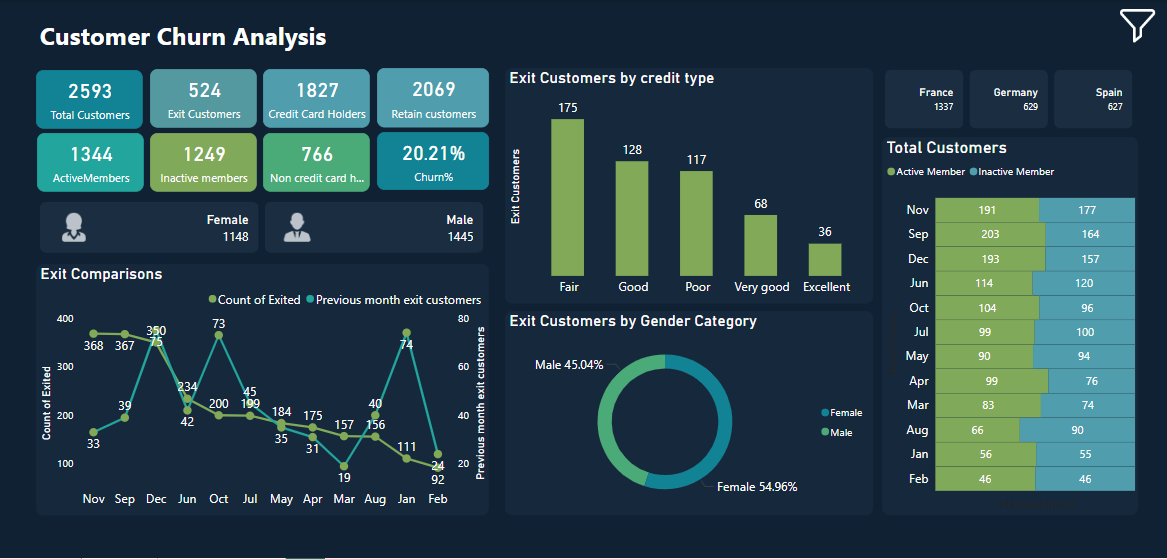

The page's visual inventory and layout, read from the dashboard file:
{"tool":"powerbi","page":{"name":"HOME","canvas":[1530,732],"ordinal":0},"visuals":[{"type":"card","fields":{"Values":["Active customers.Total Customers"]},"box":[47.8,92.1,140,76.8],"z":0},{"type":"card","fields":{"Values":["Active customers.Activw Members"]},"box":[48.1,174.3,140,76.5],"z":1000},{"type":"card","fields":{"Values":["Active customers.Inactive members"]},"box":[196.8,174.4,140,76.5],"z":2000},{"type":"card","fields":{"Values":["Active customers.Credit Card Holders"]},"box":[345.4,90.7,140,76.5],"z":3000},{"type":"card","fields":{"Values":["Active customers.Non credit card holders"]},"box":[345.5,174.4,140,76.5],"z":4000},{"type":"card","fields":{"Values":["Active customers.Exit Customers"]},"box":[196.6,90.7,140,76.5],"z":5000},{"type":"clusteredColumnChart","fields":{"Category":["Bank_Churn.credit type"],"Y":["Active customers.Exit Customers"]},"box":[662,88.8,482.7,308.7],"z":6000},{"type":"donutChart","title":"Exit Customers by Gender Category","fields":{"Y":["Active customers.Exit Customers"],"Category":["Gender.GenderCategory"]},"box":[662,407.8,482.7,267.8],"z":7000},{"type":"lineChart","title":"Exit Comparisons","fields":{"Category":["Date Master.Month Name"],"Y":["CountNonNull(Bank_Churn.Exited)"],"Y2":["Active customers.Previous month exit customers"]},"box":[47.6,345.8,593.7,330],"z":8000},{"type":"card","fields":{"Values":["Active customers.Retain customers"]},"box":[494.2,89.3,147,77.8],"z":9000},{"type":"hundredPercentStackedBarChart","title":"Total Customers","fields":{"Category":["Date Master.year","Date Master.Month Name"],"Y":["Active customers.Total Customers"],"Series":["Active customers.ActiveCategory"]},"box":[1156.5,179.1,336,496.4],"z":10000},{"type":"card","fields":{"Values":["Active customers.Churn%"]},"box":[494.2,172.9,147,76.4],"z":11000},{"type":"advancedSlicerVisual","fields":{"Values":["Geography.GeographyLocation"]},"box":[1155.6,86.5,337.2,87.9],"z":12000},{"type":"image","box":[63.4,273.8,67.7,47.6],"z":13000},{"type":"image","box":[357.4,273.8,66.3,47.6],"z":14000},{"type":"advancedSlicerVisual","fields":{"Values":["Gender.GenderCategory"]},"box":[47.6,259.4,593.7,77.8],"z":15000},{"type":"textbox","box":[47.6,20.2,407.8,66.3],"z":16000},{"type":"image","box":[1454.9,0,75.1,64.8],"z":18000}]}

Visuals, with their boxes in screenshot pixels (x1, y1, x2, y2), scaled from the page's 1530x732 canvas onto the 1167x559 screenshot:
card - Active customers.Total Customers: box(36, 70, 143, 129)
card - Active customers.Activw Members: box(37, 133, 143, 192)
card - Active customers.Inactive members: box(150, 133, 257, 192)
card - Active customers.Credit Card Holders: box(263, 69, 370, 128)
card - Active customers.Non credit card holders: box(264, 133, 370, 192)
card - Active customers.Exit Customers: box(150, 69, 257, 128)
clusteredColumnChart - Bank_Churn.credit type x Active customers.Exit Customers: box(505, 68, 873, 304)
"Exit Customers by Gender Category" donutChart: box(505, 311, 873, 516)
"Exit Comparisons" lineChart: box(36, 264, 489, 516)
card - Active customers.Retain customers: box(377, 68, 489, 128)
"Total Customers" hundredPercentStackedBarChart: box(882, 137, 1138, 516)
card - Active customers.Churn%: box(377, 132, 489, 190)
advancedSlicerVisual - Geography.GeographyLocation: box(881, 66, 1139, 133)
image: box(48, 209, 100, 245)
image: box(273, 209, 323, 245)
advancedSlicerVisual - Gender.GenderCategory: box(36, 198, 489, 258)
textbox: box(36, 15, 347, 66)
image: box(1110, 0, 1166, 49)
